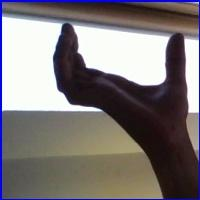space: (36, 19, 197, 145)
